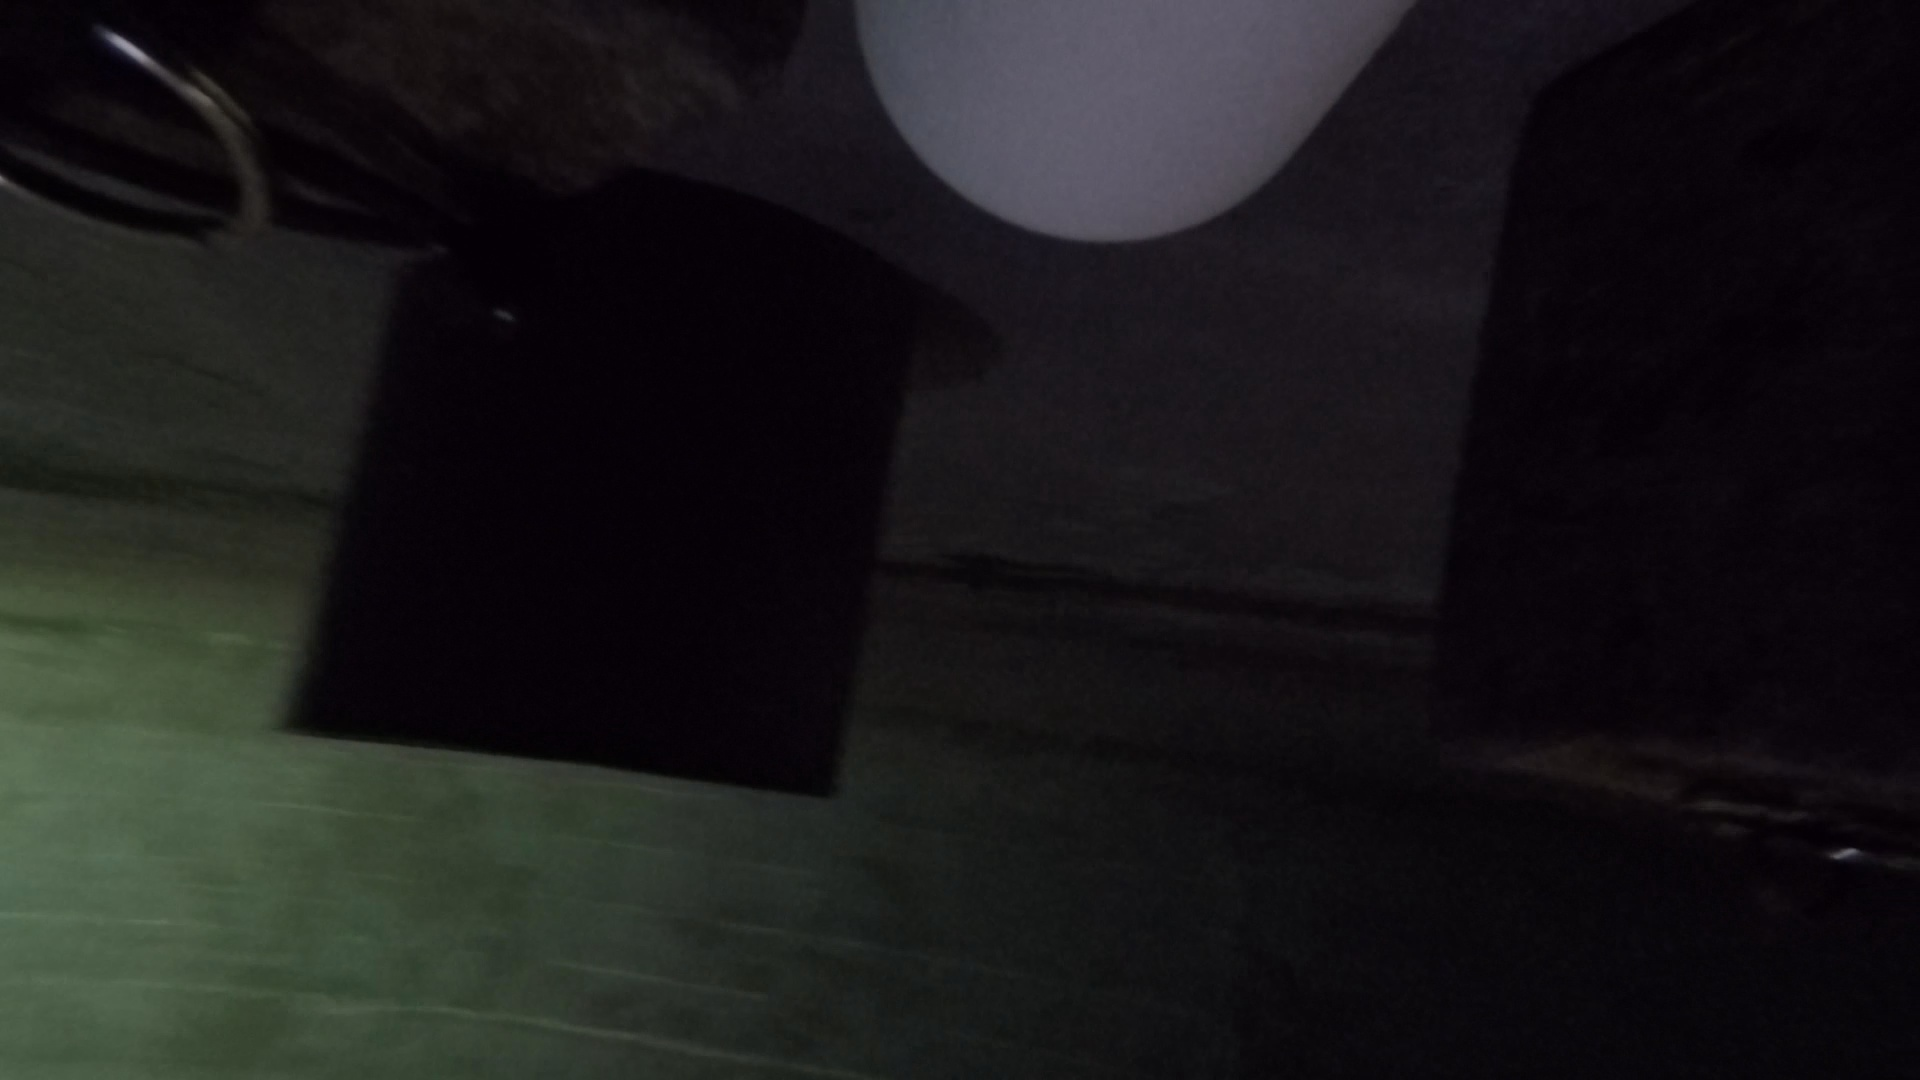led_block: (1428, 1, 1917, 931), (3, 1, 808, 262)
pipe: (281, 251, 920, 799), (851, 1, 1418, 247)
